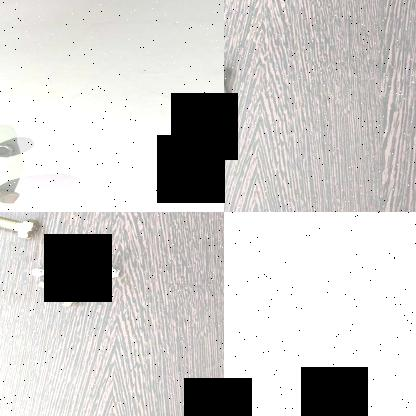Bolts: (34, 278, 89, 310), (0, 212, 50, 238), (93, 264, 133, 283), (224, 66, 236, 104)
NUTS: (0, 179, 24, 209), (0, 132, 23, 161)
